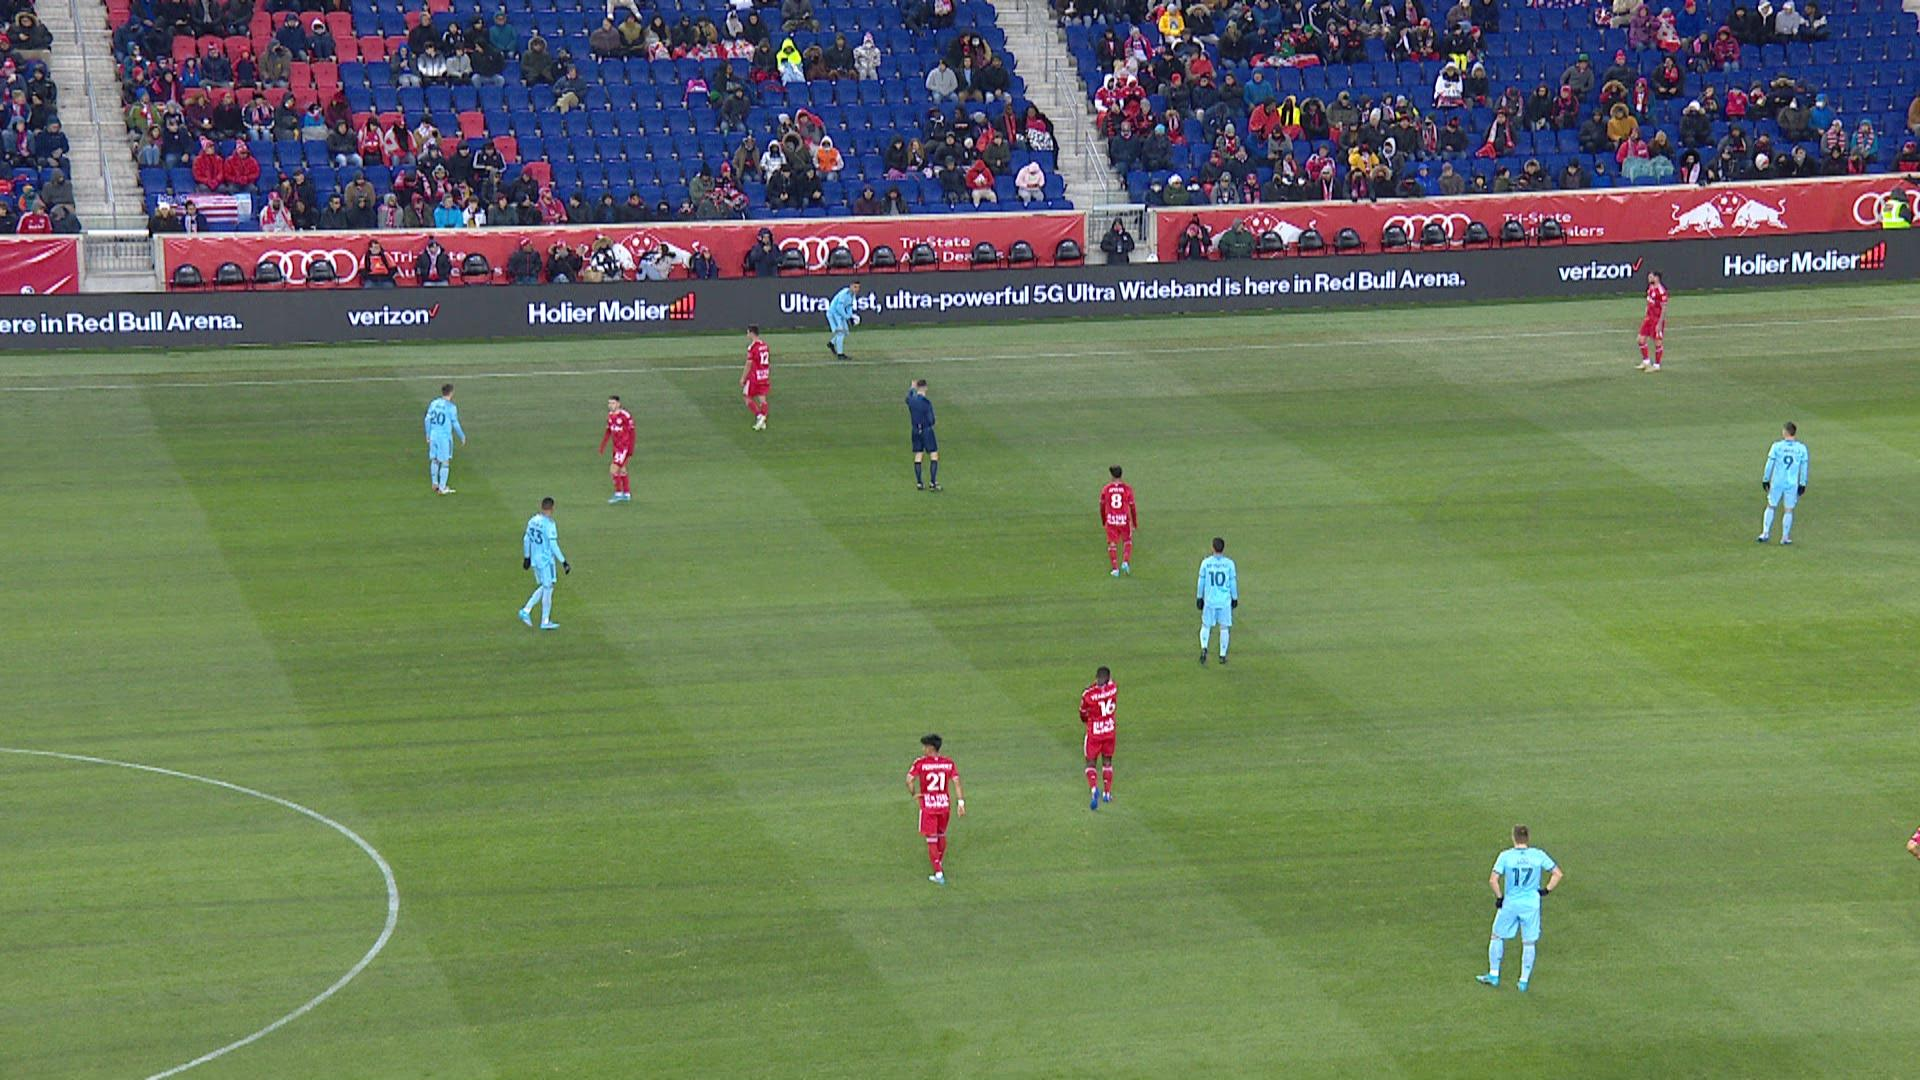football: (853, 313, 861, 326)
